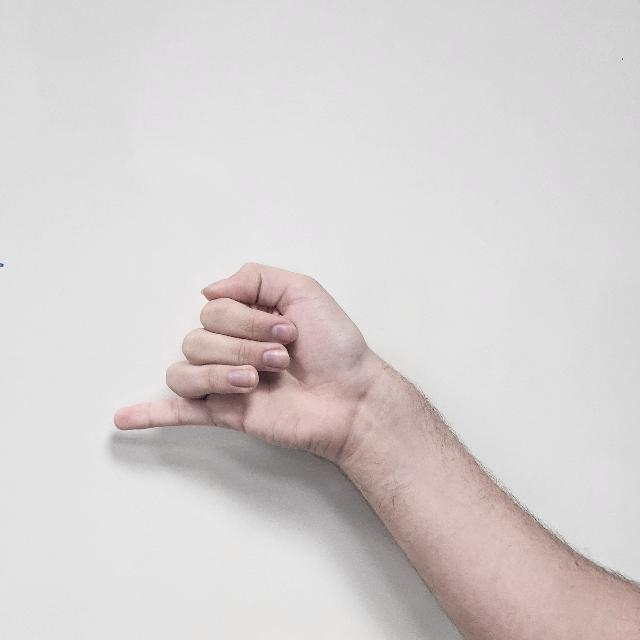Esquerda: (96, 235, 368, 501)
